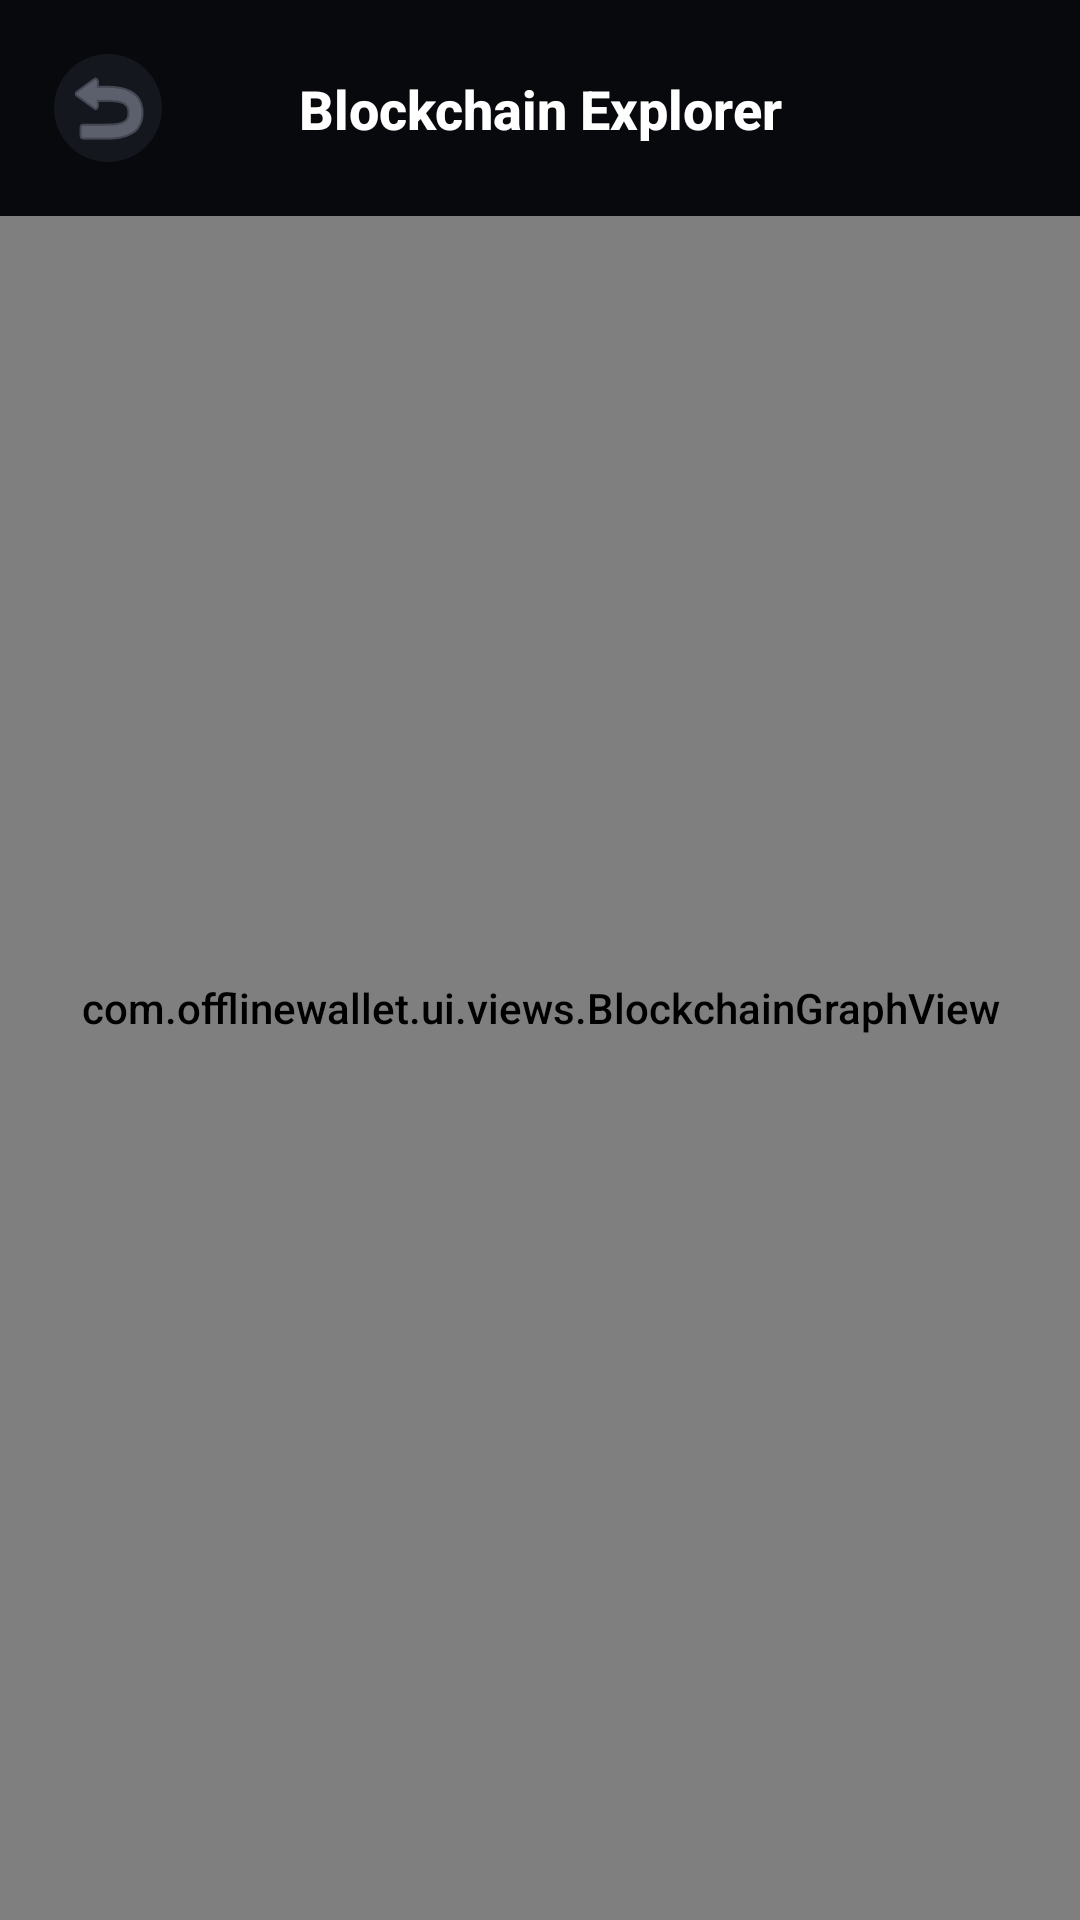

Icon bounding boxes for this 1080 x 1920 phone screenshot, format bbox=[x1, y1, x2, y2]:
revert: bbox=[74, 77, 144, 140]
